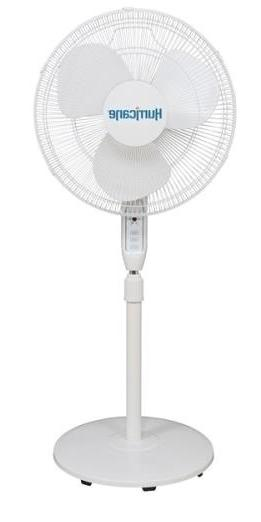fan: (31, 5, 229, 498)
